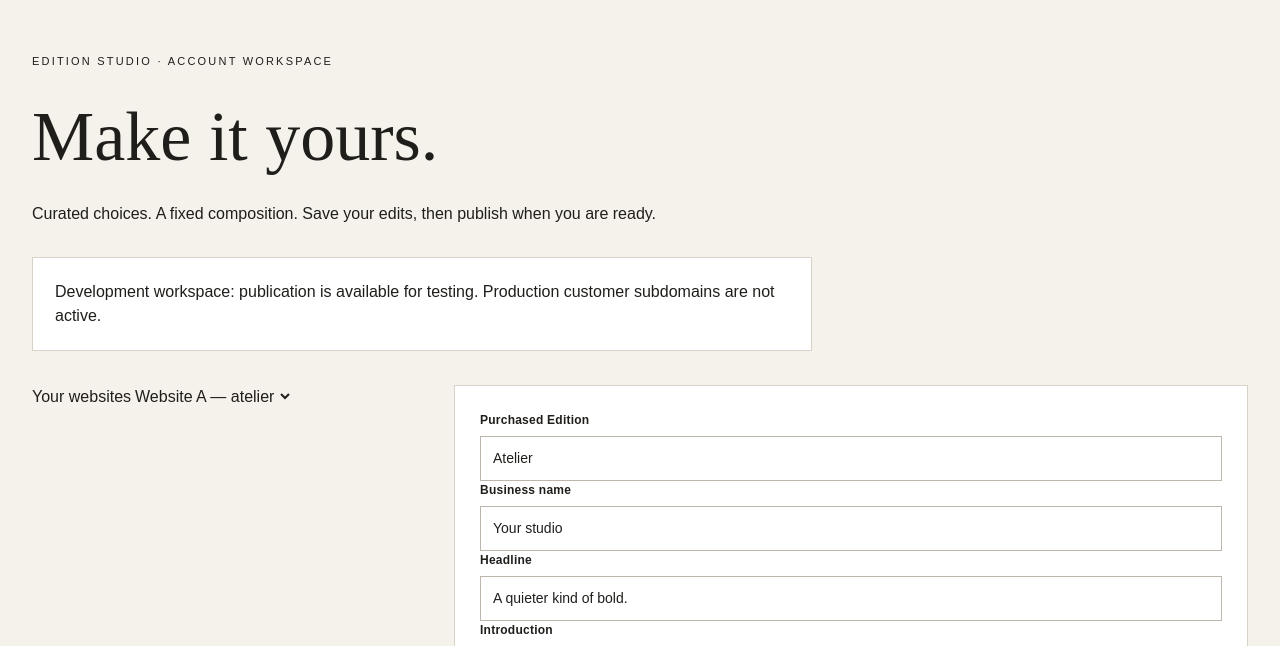
Test: Editor asynchronous website isolation › ignores obsolete Website A response with HTTP 200
The width and height of the screenshot is (1280, 646).
Select "Website B — atelier" in the dropdown labelled "Your websites" at (212, 396), box [131,387,293,406]
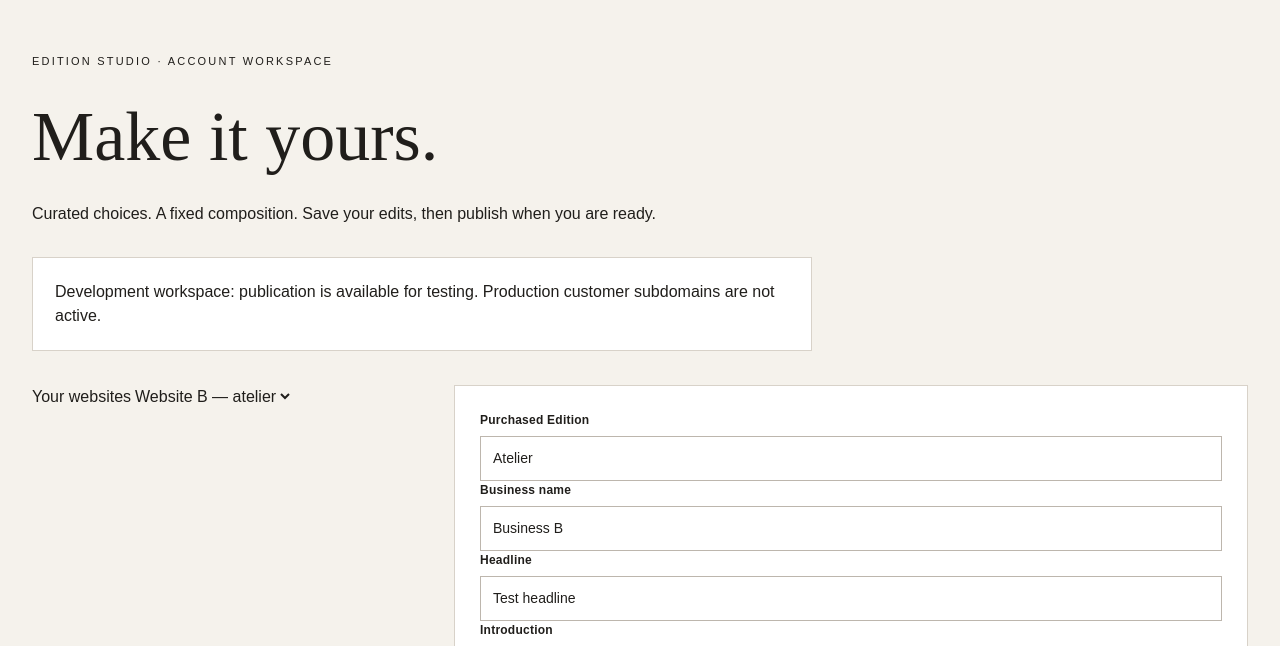
Now the field labelled "Business name" holds "Business B", box [480,506,1222,551]
